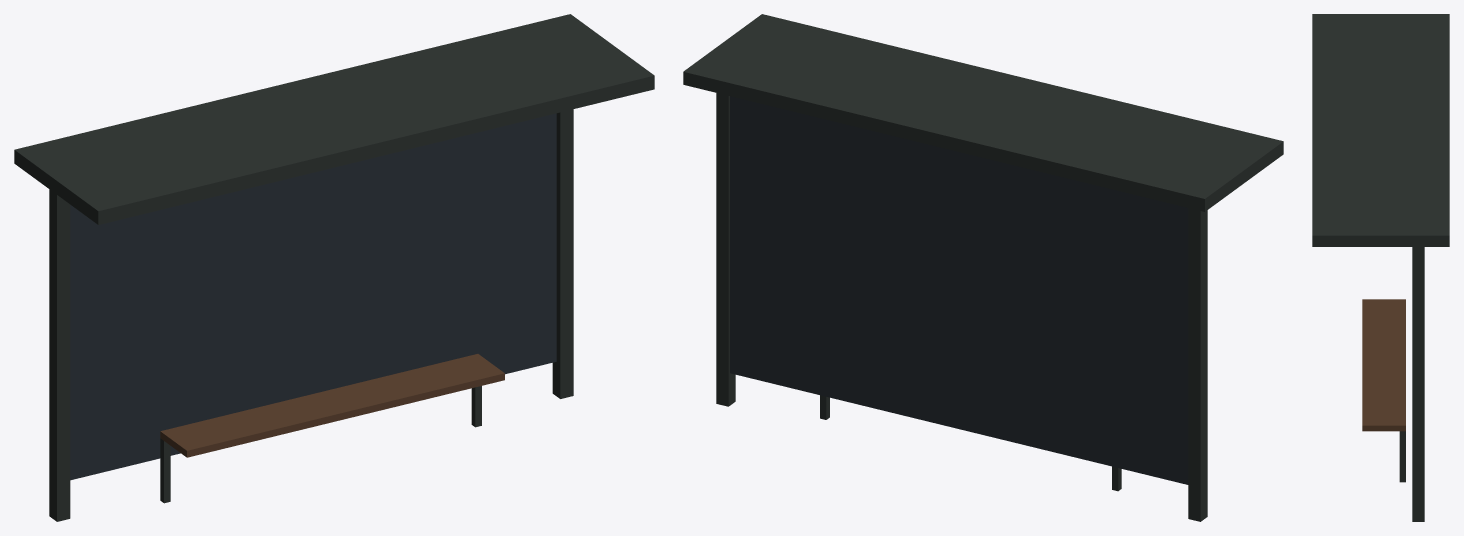
Rendered from Prop_BusStop.fbx.
3 renders of one model, left to right at view 1: azimuth 30°, elevation 25°; view 2: azimuth 150°, elevation 25°; view 3: azimuth 270°, elevation 25°, orthographic. The views are drawn at different scales.
Visible parts, largest first — view 1: Prop_BusStop; view 2: Prop_BusStop; view 3: Prop_BusStop.
Part boxes in pixels (left/top/right/bottom): Prop_BusStop: left=14, top=14, right=654, bottom=521; Prop_BusStop: left=683, top=14, right=1283, bottom=521; Prop_BusStop: left=1312, top=14, right=1449, bottom=521.
Size of the model in its own units: 4.2 by 2.6 by 1.1.
